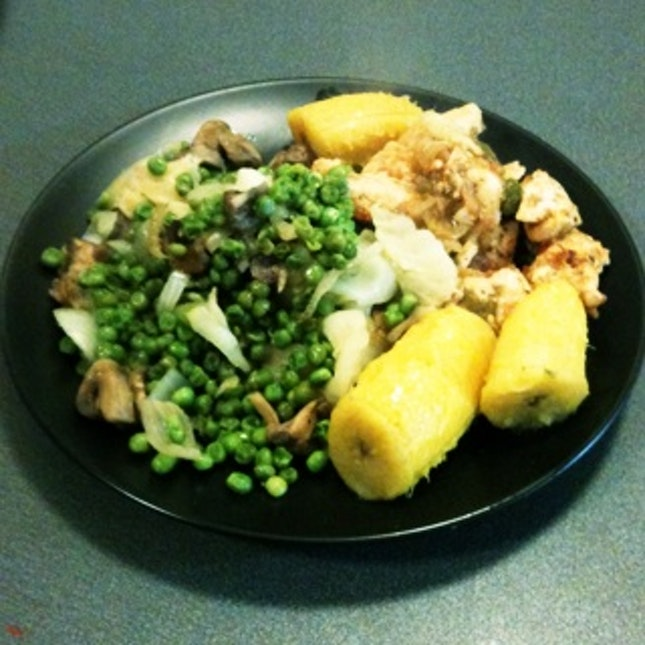boiled peas: (108, 275, 300, 454)
